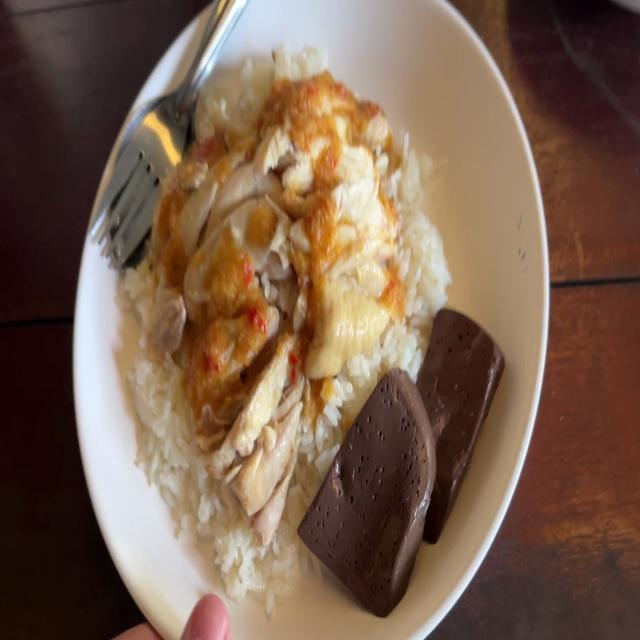boiled_chicken: (168, 79, 376, 460)
boiled_chicken_blood_jelly: (306, 366, 420, 593), (405, 305, 501, 522)
chicken_rice: (112, 50, 492, 640)
